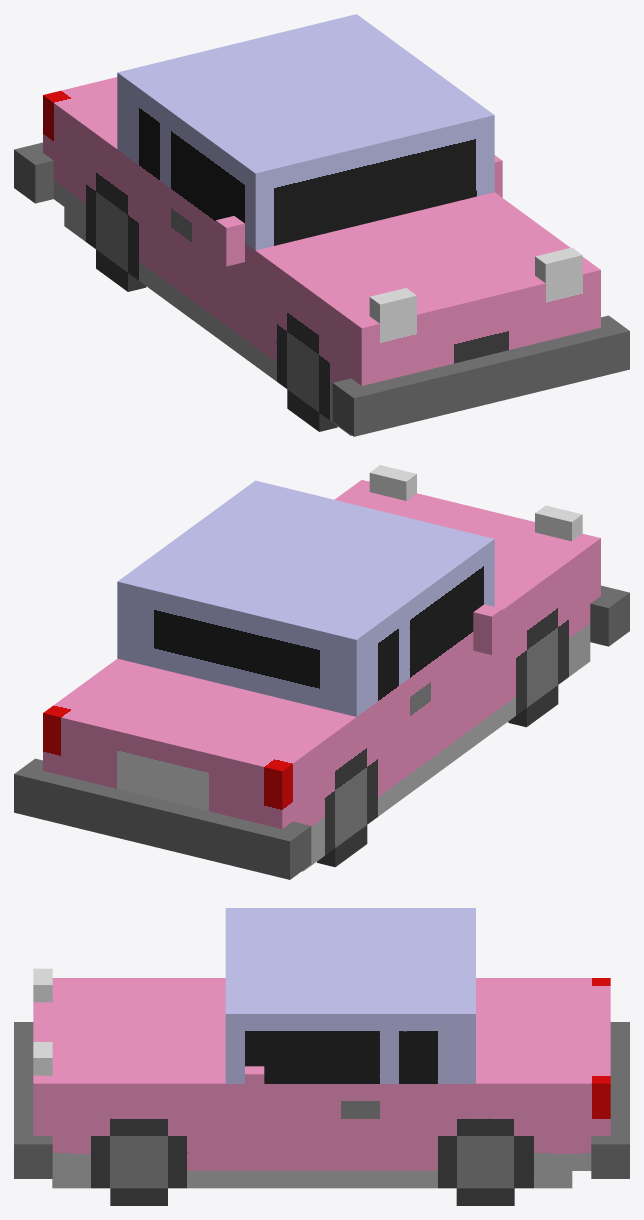
Rendered from veh_car2.dae.
The picture shows the model from 3 angles, top to bottom: view 1: azimuth 30°, elevation 25°; view 2: azimuth 150°, elevation 25°; view 3: azimuth 270°, elevation 25°; orthographic projection. The views are drawn at different scales.
Parts seen in each view (by area): view 1: veh_car2; view 2: veh_car2; view 3: veh_car2.
Boxes of the visible parts, left/top/right/bottom form: veh_car2: left=14, top=14, right=629, bottom=436; veh_car2: left=14, top=465, right=629, bottom=879; veh_car2: left=14, top=908, right=629, bottom=1205.
Size of the model in its own units: 1.5 by 3.2 by 1.1.
1 material, 1 textured.
